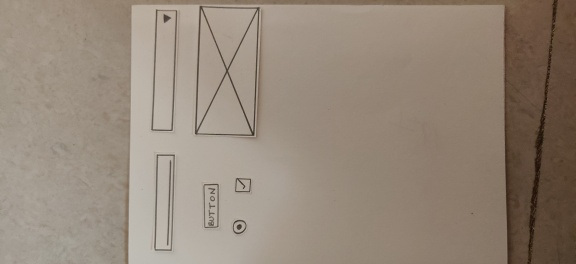button: (200, 183, 223, 230)
checkbox: (234, 176, 253, 197)
dropdown: (154, 10, 176, 133)
img: (196, 6, 257, 138)
radio: (230, 216, 247, 235)
text: (153, 152, 174, 251)
